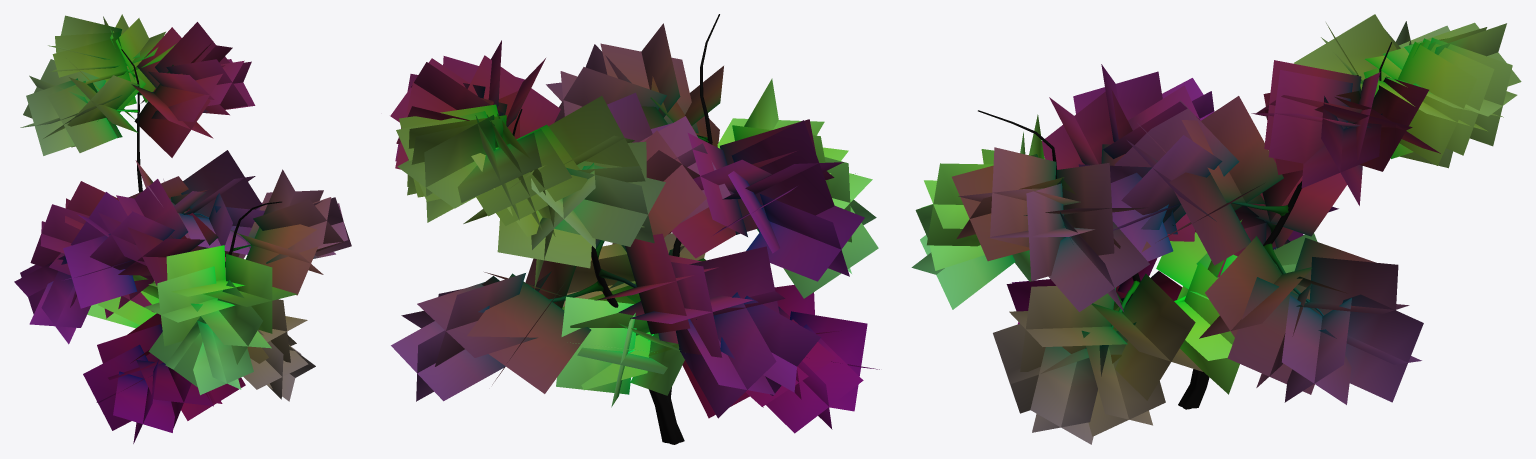
File: URP_P14_Tree_9_LOD_1.fbx
The picture shows the model from 3 angles, left to right: view 1: azimuth 30°, elevation 25°; view 2: azimuth 150°, elevation 25°; view 3: azimuth 270°, elevation 25°; orthographic projection. The views are drawn at different scales.
Visible parts, largest first — view 1: Tree_9_LOD_1; view 2: Tree_9_LOD_1; view 3: Tree_9_LOD_1.
Boxes of the visible parts, x1,y1,x2,y2 form: Tree_9_LOD_1: [14, 14, 351, 443]; Tree_9_LOD_1: [390, 14, 879, 444]; Tree_9_LOD_1: [911, 14, 1521, 444].
Bounding box in the file's own units: 403 × 449 × 615.
